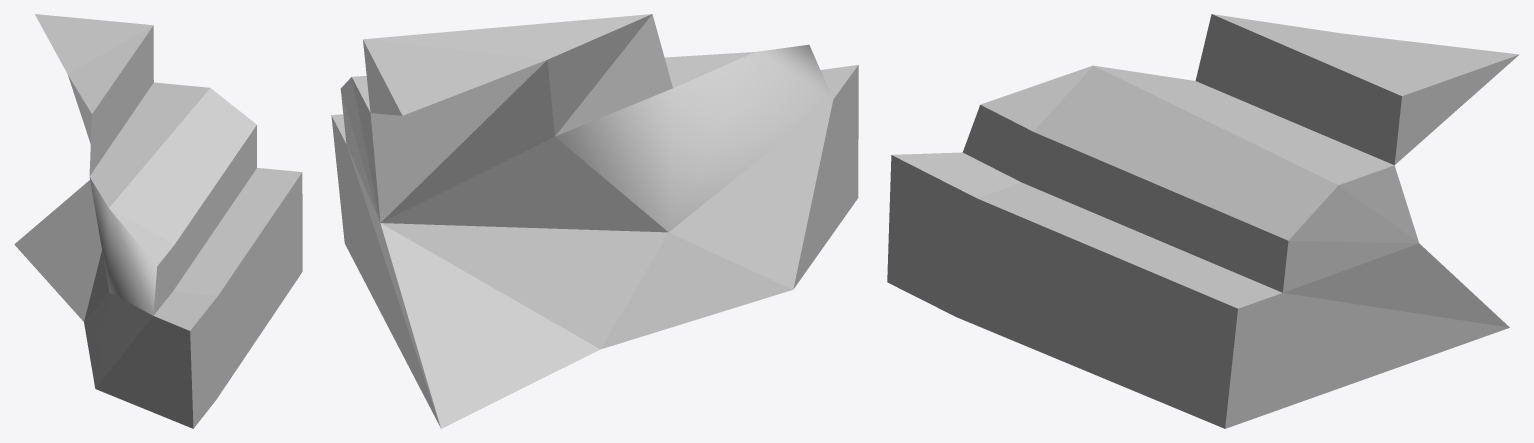
Rendered from debris.fbx.
The picture shows the model from 3 angles, left to right: view 1: azimuth 30°, elevation 25°; view 2: azimuth 150°, elevation 25°; view 3: azimuth 270°, elevation 25°; orthographic projection. The views are drawn at different scales.
Parts seen in each view (by area): view 1: debris1; view 2: debris1; view 3: debris1.
Part boxes in pixels (x1,y1,x2,y2): debris1: (14,14,302,428); debris1: (331,14,858,428); debris1: (887,14,1519,428).
Size of the model in its own units: 56.73 by 46.38 by 88.67.
